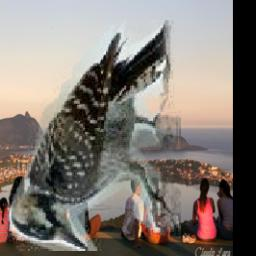Woodpecker: (6, 21, 182, 252)
